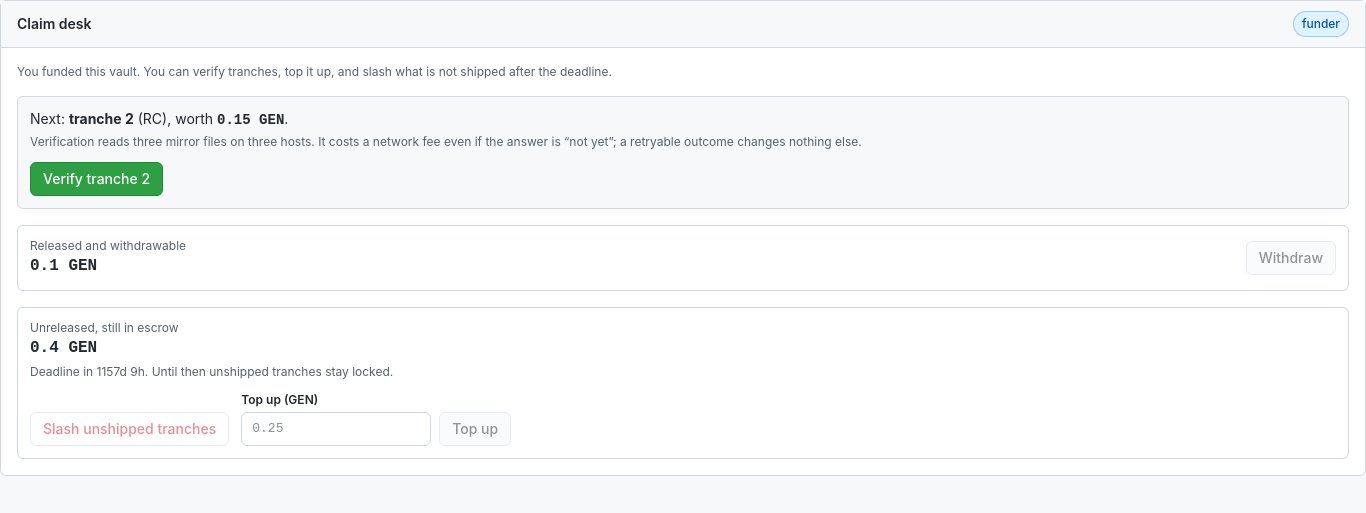
Test: ClaimTrancheDesk › validates the top-up amount
In the field with placeholder "0.25": [336, 429] box x1=241 y1=412 x2=431 y2=446, type "0.0001"
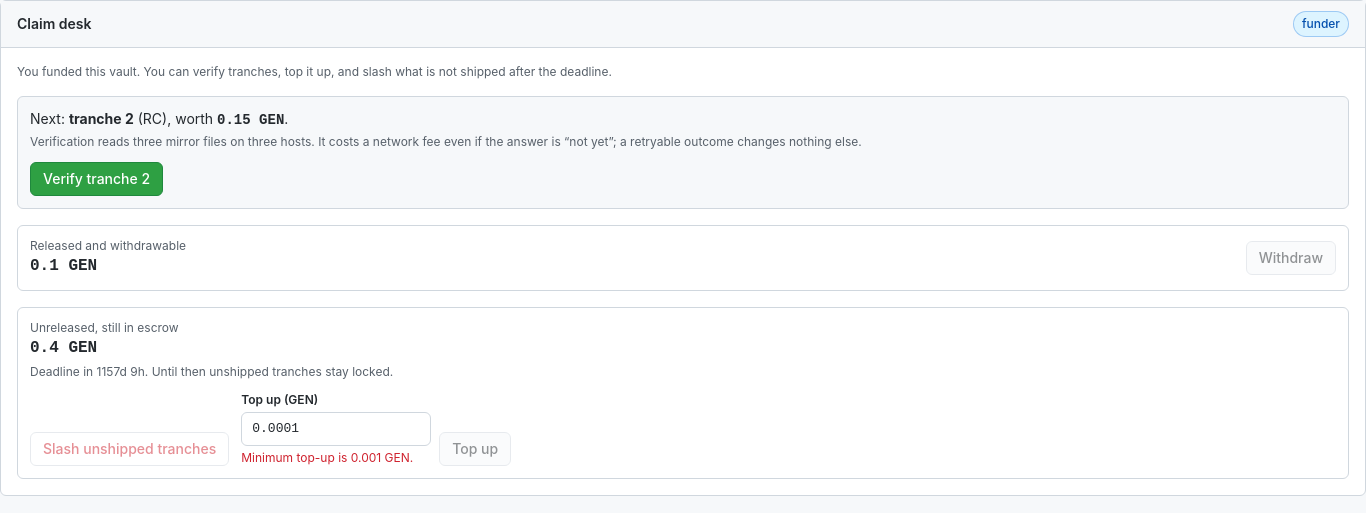
Expected: the message shows "Minimum top-up", x1=241 y1=450 x2=413 y2=464
Replace the text in the field with placeholder "0.25" with "abc": [336, 429] box x1=241 y1=412 x2=431 y2=446
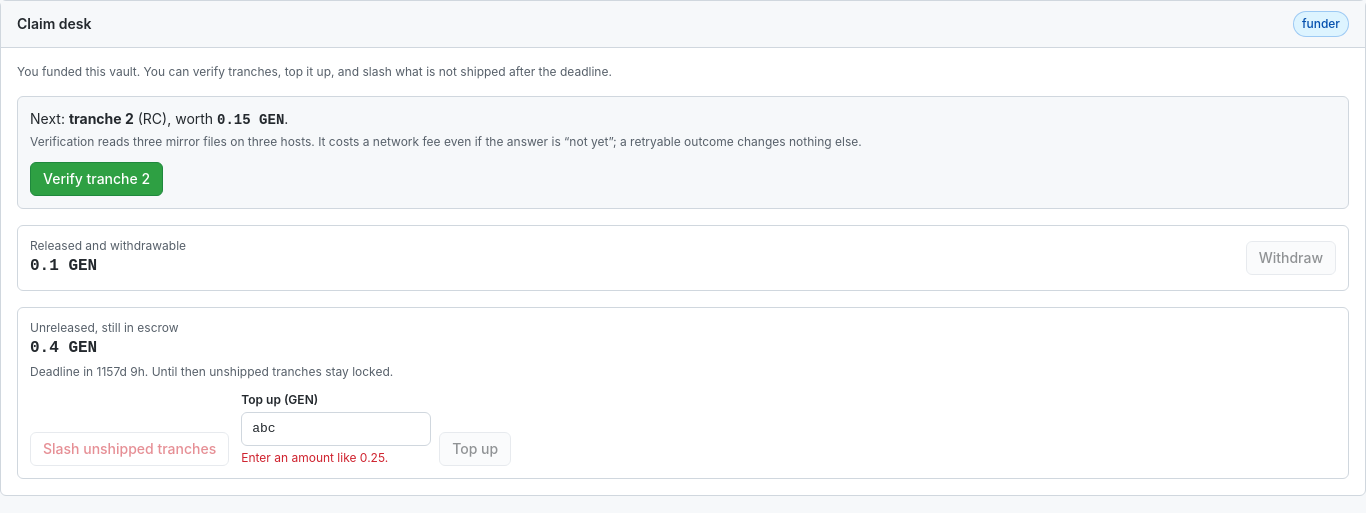
Expected: the message shows "Enter an amount", x1=241 y1=450 x2=388 y2=464
